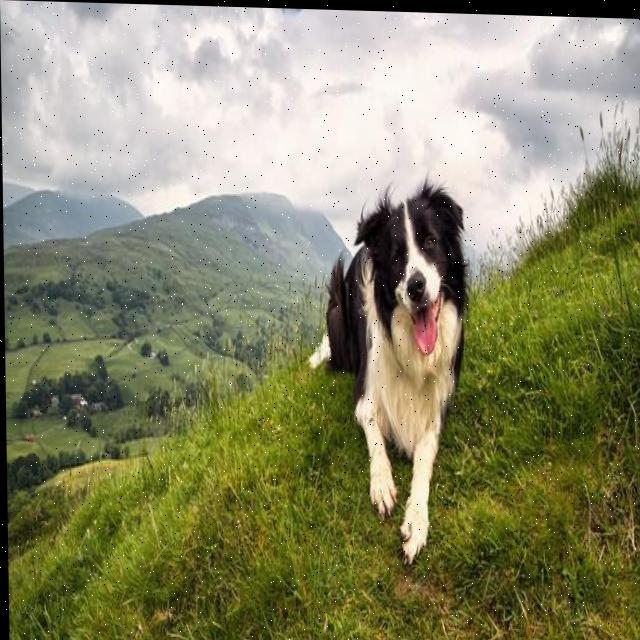BORDER_COLLIE: (298, 162, 503, 592)
